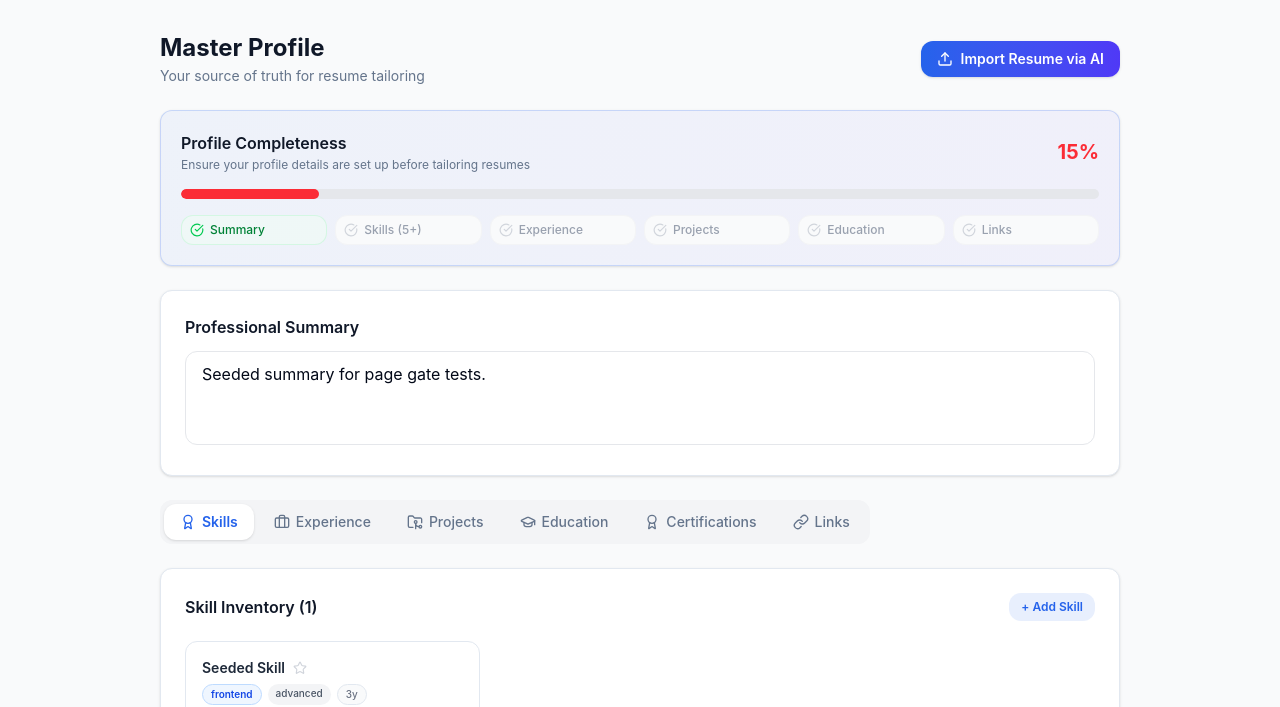
High-churn page gates (render + one interaction) › ProfilePage renders seeded skills and toggles the add-skill form
Expected: the text "Seeded Skill" is shown, [202,658,285,678]
Interaction gate: opening the form flips the toggle label.
What coordinates should you click on to do the following:
click the button "+ Add Skill"
I would click on:
 (1052, 607)
Its box is [1009,593,1095,621].
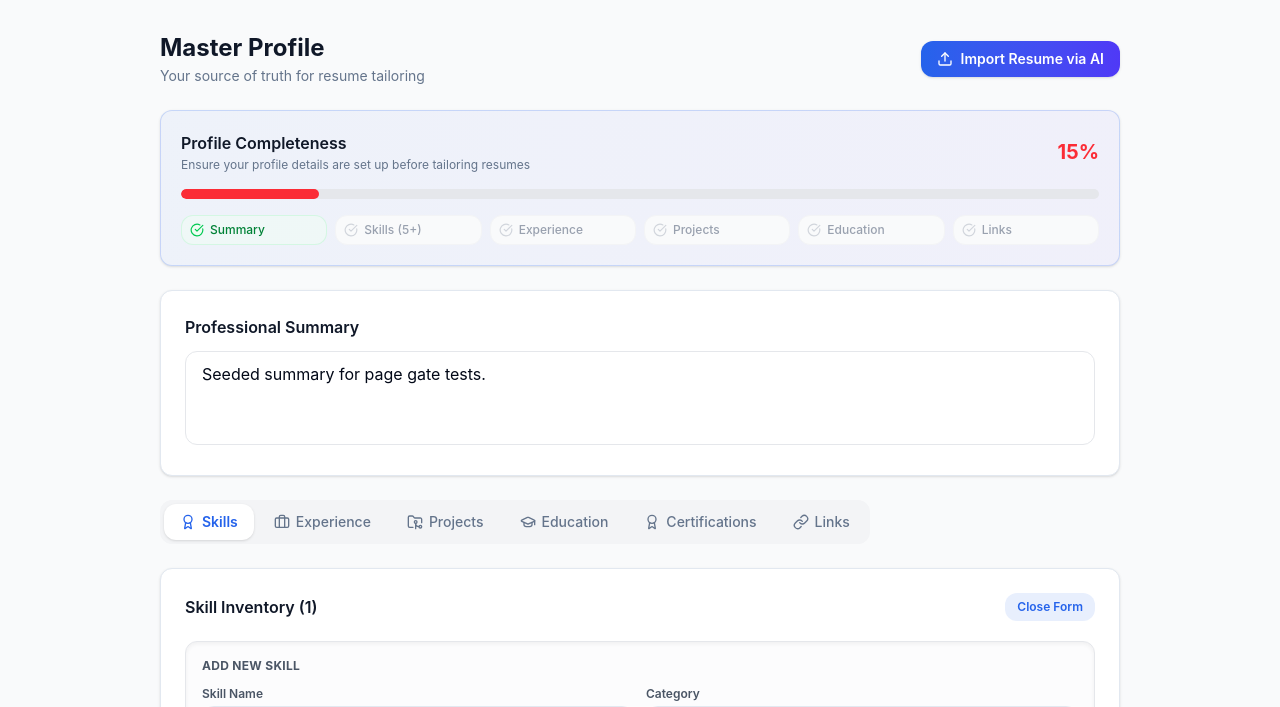
Now the button "Close Form" is shown, box [1005,593,1095,621]
